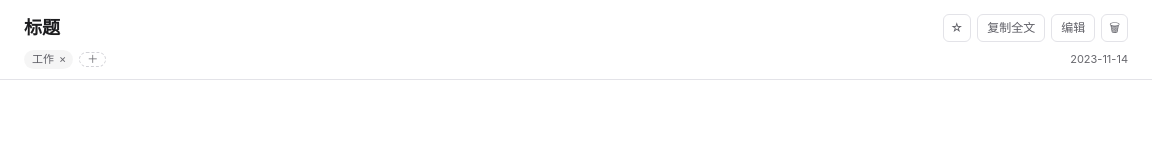
NoteHeader tag editing › keeps the chip and shows the error when the save fails
Click the button with class "chip-x" at (63, 59), box [56,53,69,66]
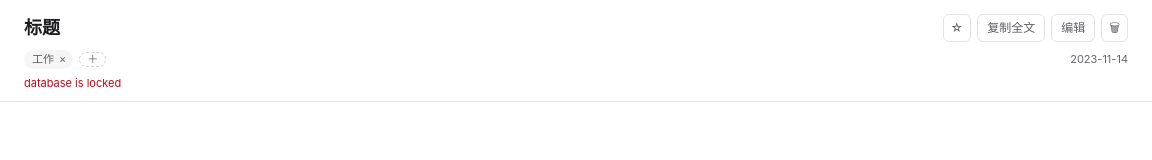
Expected: the number of buttons with class "chip-x" is 1, [56,53,69,66]
Result: the message "database is locked" is shown at [24,76,121,90]
